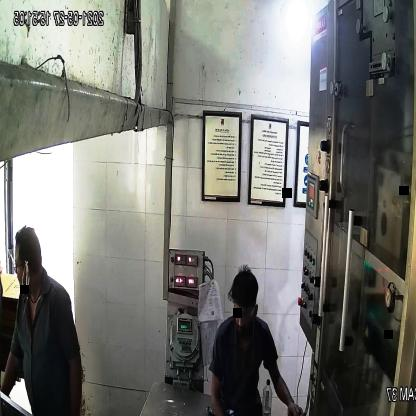goggles: (231, 297, 261, 323)
